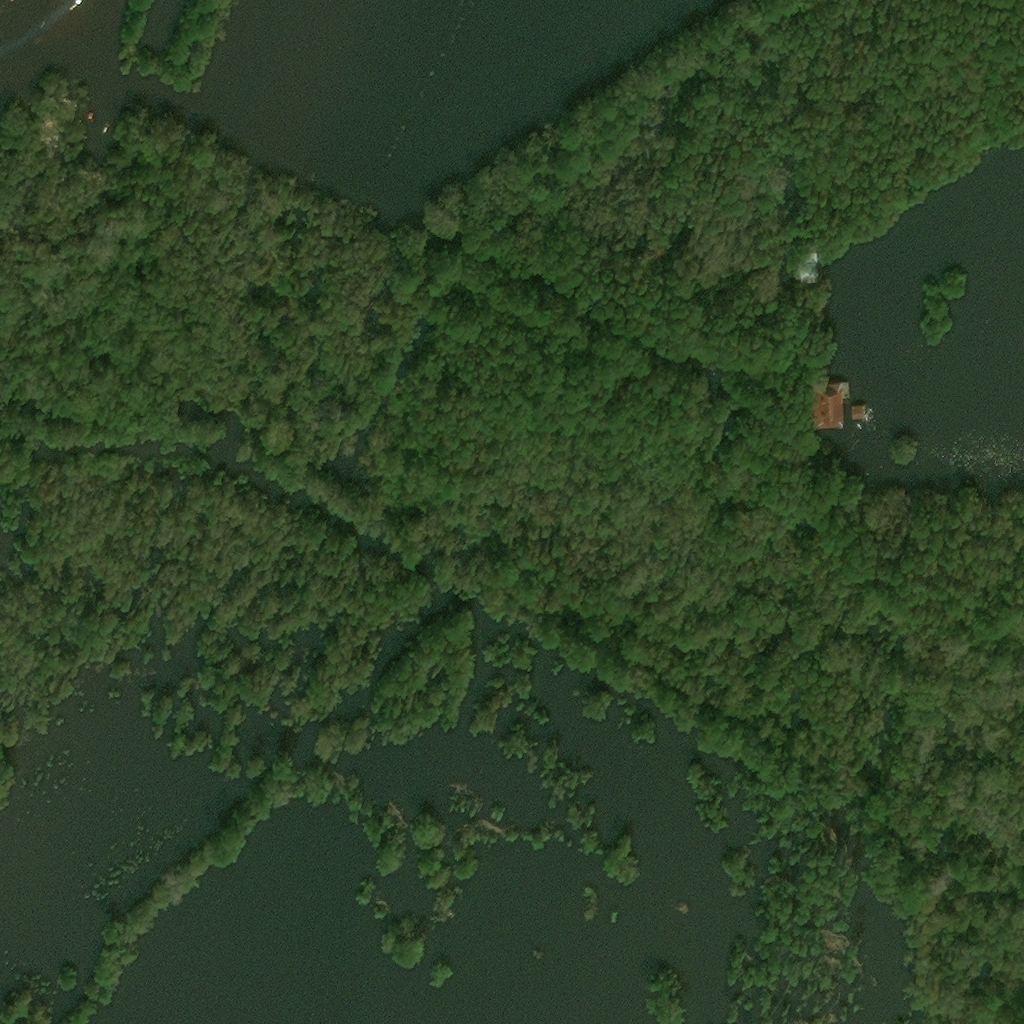destroyed: (807, 379, 839, 422), (797, 254, 816, 274), (838, 380, 848, 400), (849, 402, 863, 414)
